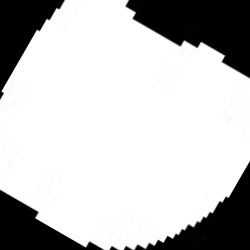spot: (2, 2, 249, 247)
